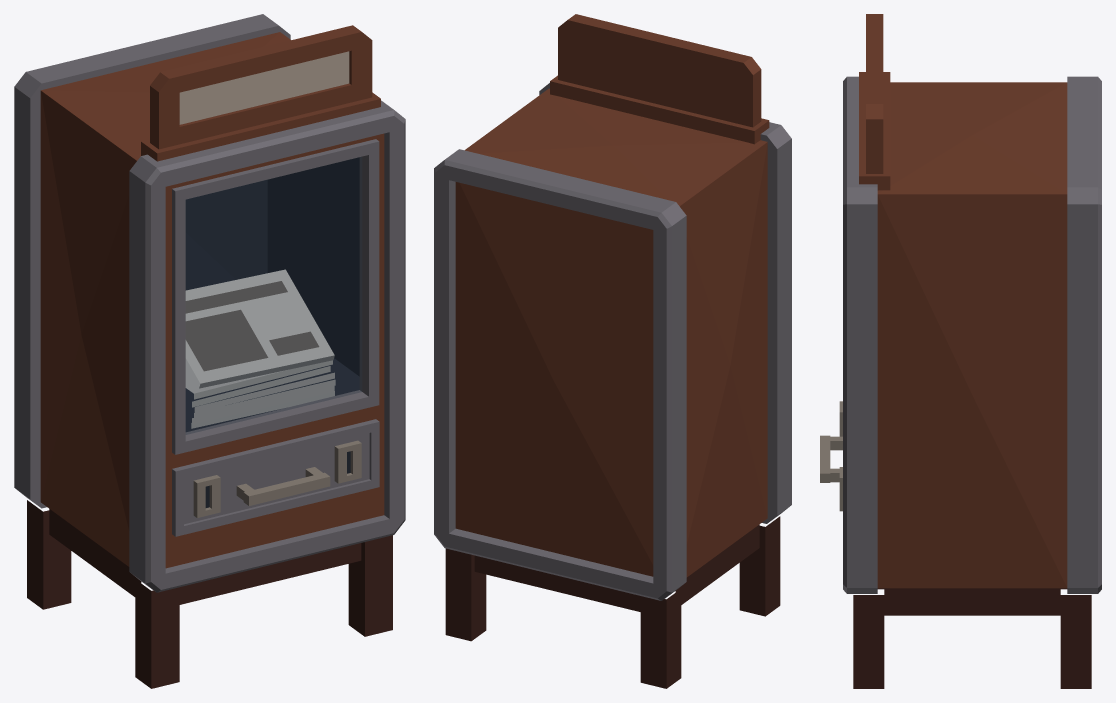
The model's file is newspaper-box-3f2c0e.glb.
3 views of the same model, side by side, from view 1: azimuth 30°, elevation 25°; view 2: azimuth 150°, elevation 25°; view 3: azimuth 270°, elevation 25° (orthographic). The views are drawn at different scales.
Parts seen in each view (by area): view 1: cabinet, door-panel, door-glass, papers-mesh; view 2: cabinet; view 3: cabinet, door-panel.
Part boxes in pixels (x1=…): cabinet: x1=14, y1=14, x2=405, y2=688; door-panel: x1=165, y1=133, x2=384, y2=568; door-glass: x1=186, y1=157, x2=361, y2=434; papers-mesh: x1=185, y1=269, x2=335, y2=428; cabinet: x1=434, y1=14, x2=791, y2=688; cabinet: x1=843, y1=14, x2=1101, y2=688; door-panel: x1=820, y1=401, x2=842, y2=511.
Size of the model in its own units: 0.5 by 1.1 by 0.49.
